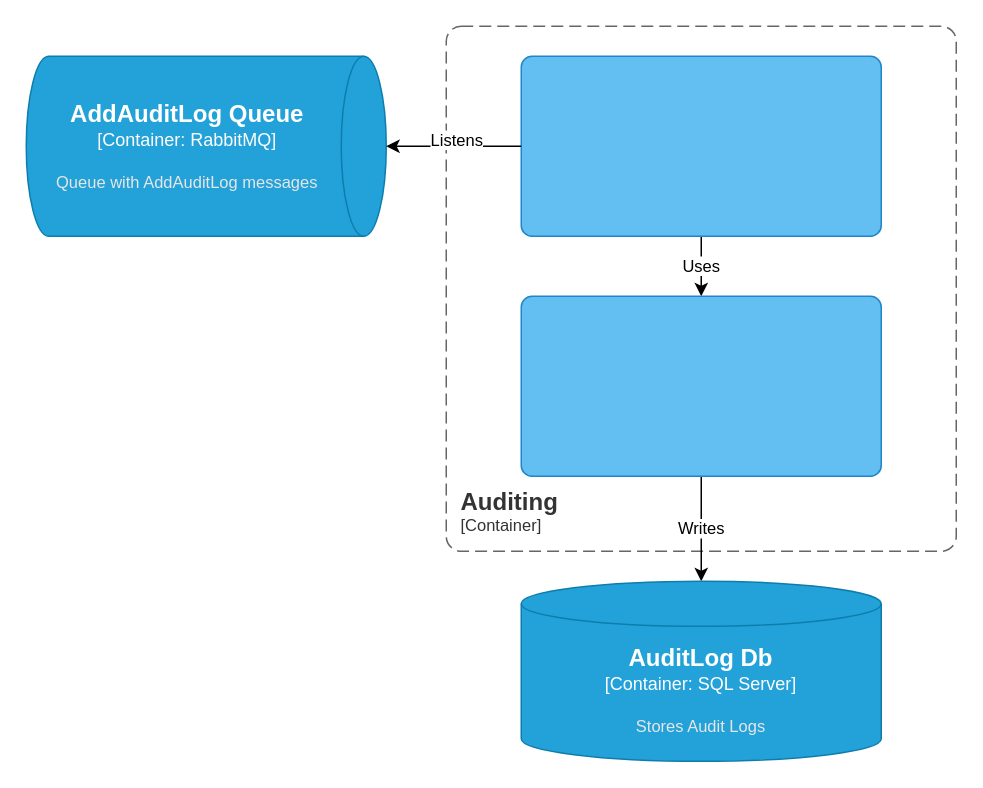
The diagram is 983 pixels wide and 788 high, and some of its shapes have lost their labels. Each missing label, with the centre of its shape:
Audit Log Repository [Component: .Net] Handles access to database: the point at 700,385
Message Handler [Component: .Net] Handles incoming messages: the point at 700,145
